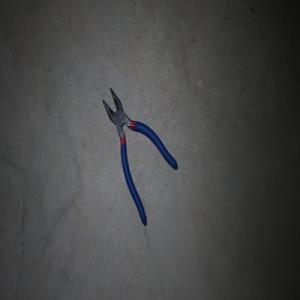Pliers: (102, 87, 178, 226)
